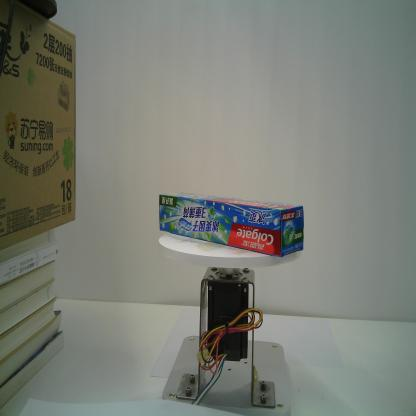Personal Hygiene: (158, 192, 305, 260)
